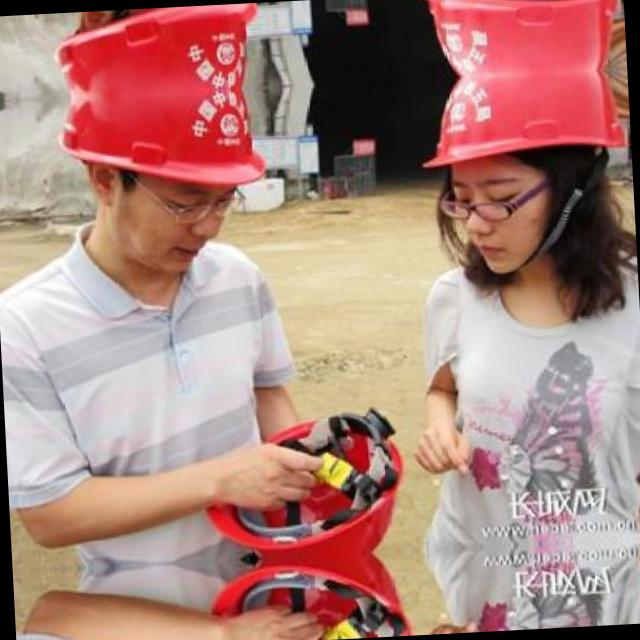helmet: (45, 89, 268, 309), (412, 69, 628, 282), (40, 3, 258, 99), (407, 0, 619, 80)
